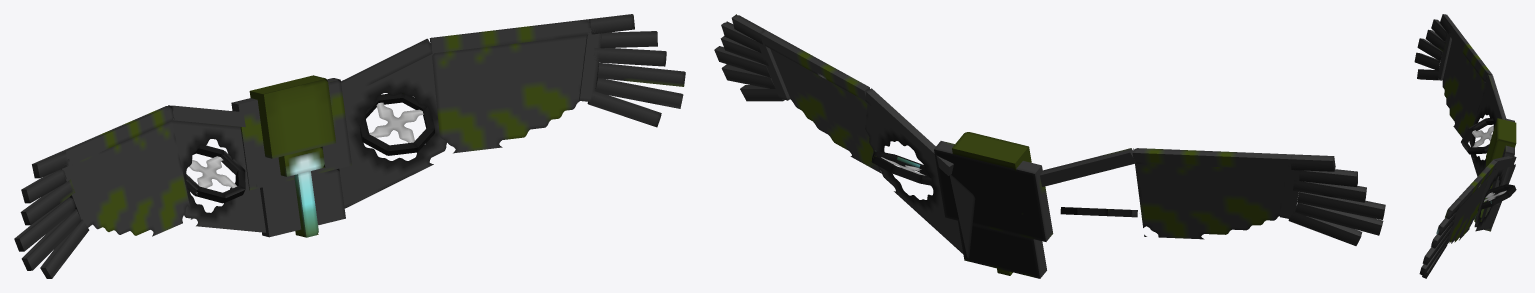
The model's file is Green.fbx.
3 views of the same model, side by side, from view 1: azimuth 30°, elevation 25°; view 2: azimuth 150°, elevation 25°; view 3: azimuth 270°, elevation 25° (orthographic). The views are drawn at different scales.
Visible parts, largest first — view 1: Green4, Green3, Green5; view 2: Green4, Green3, Green5; view 3: Green4, Green3, Green5.
Boxes of the visible parts, left/top/right/bottom form: Green4: left=14, top=14, right=685, bottom=278; Green3: left=231, top=75, right=351, bottom=237; Green5: left=186, top=93, right=434, bottom=203; Green4: left=714, top=14, right=1385, bottom=259; Green3: left=934, top=132, right=1053, bottom=278; Green5: left=871, top=150, right=1137, bottom=217; Green4: left=1414, top=14, right=1516, bottom=278; Green3: left=1474, top=118, right=1516, bottom=231; Green5: left=1461, top=118, right=1516, bottom=210.
Bounding box in the file's own units: 6.6 × 1.57 × 1.35.
